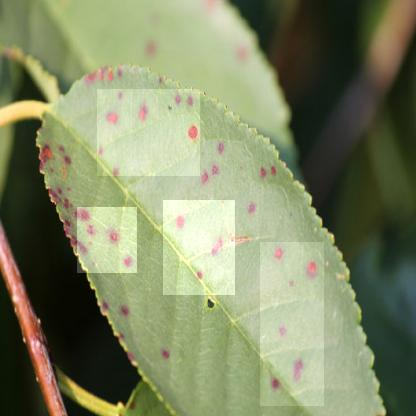black-spot: (260, 242, 324, 406), (97, 89, 200, 176), (163, 200, 235, 295), (77, 208, 137, 274)
